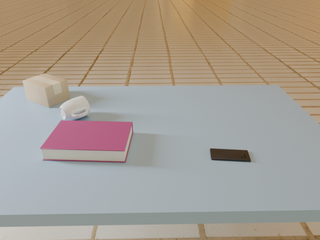book: (40, 120, 133, 162)
box: (23, 74, 70, 108)
cup: (59, 96, 90, 121)
phone: (210, 149, 251, 162)
